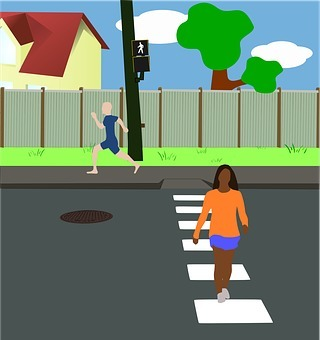person: (185, 156, 247, 305), (84, 92, 144, 181)
